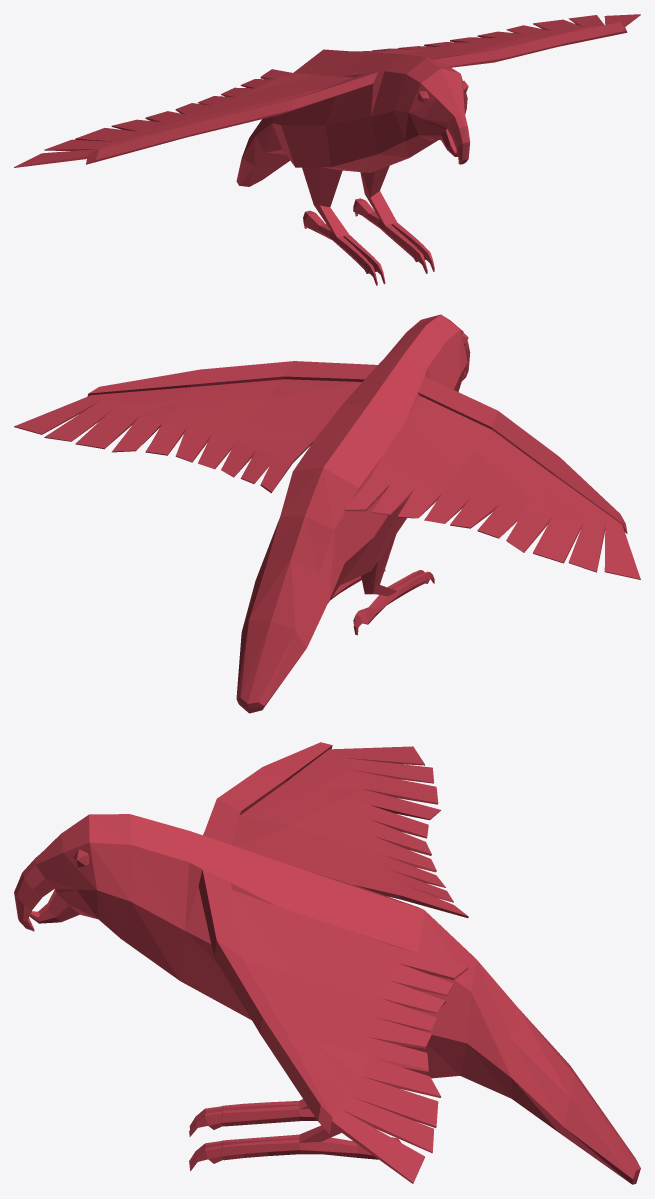
File: bird_final_plane.glb
3 renders of one model, top to bottom at view 1: azimuth 30°, elevation 25°; view 2: azimuth 150°, elevation 25°; view 3: azimuth 270°, elevation 25°, orthographic. The views are drawn at different scales.
Visible parts, largest first — view 1: bird_final_plane; view 2: bird_final_plane; view 3: bird_final_plane.
Boxes of the visible parts, x1=… form: bird_final_plane: x1=14, y1=14, x2=640, y2=285; bird_final_plane: x1=14, y1=314, x2=640, y2=713; bird_final_plane: x1=14, y1=742, x2=640, y2=1184.
Bounding box in the file's own units: 0.6063 × 0.2394 × 0.3679.
